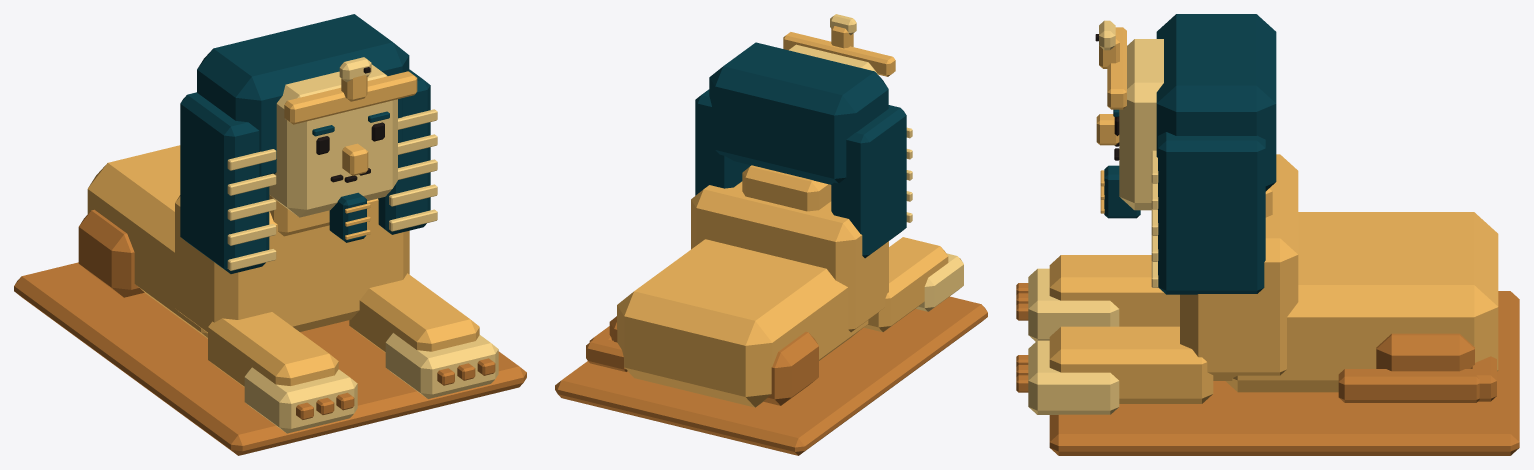
Rendered from esfinge-blockie.glb.
The picture shows the model from 3 angles, left to right: view 1: azimuth 30°, elevation 25°; view 2: azimuth 150°, elevation 25°; view 3: azimuth 270°, elevation 25°; orthographic projection. The views are drawn at different scales.
Parts seen in each view (by area): view 1: esfinge-blockie; view 2: esfinge-blockie; view 3: esfinge-blockie.
Part boxes in pixels (x1,y1,x2,y2): esfinge-blockie: (14, 14, 526, 455); esfinge-blockie: (555, 14, 987, 455); esfinge-blockie: (1016, 14, 1519, 455).
Size of the model in its own units: 2.35 by 2.61 by 3.32.
Materials: 1 (1 with a texture image).
